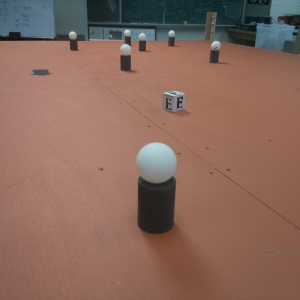obstacle: (135, 142, 179, 239), (119, 45, 133, 74), (207, 42, 222, 63), (69, 31, 80, 54), (139, 33, 148, 53), (124, 30, 133, 47), (168, 31, 176, 48)
